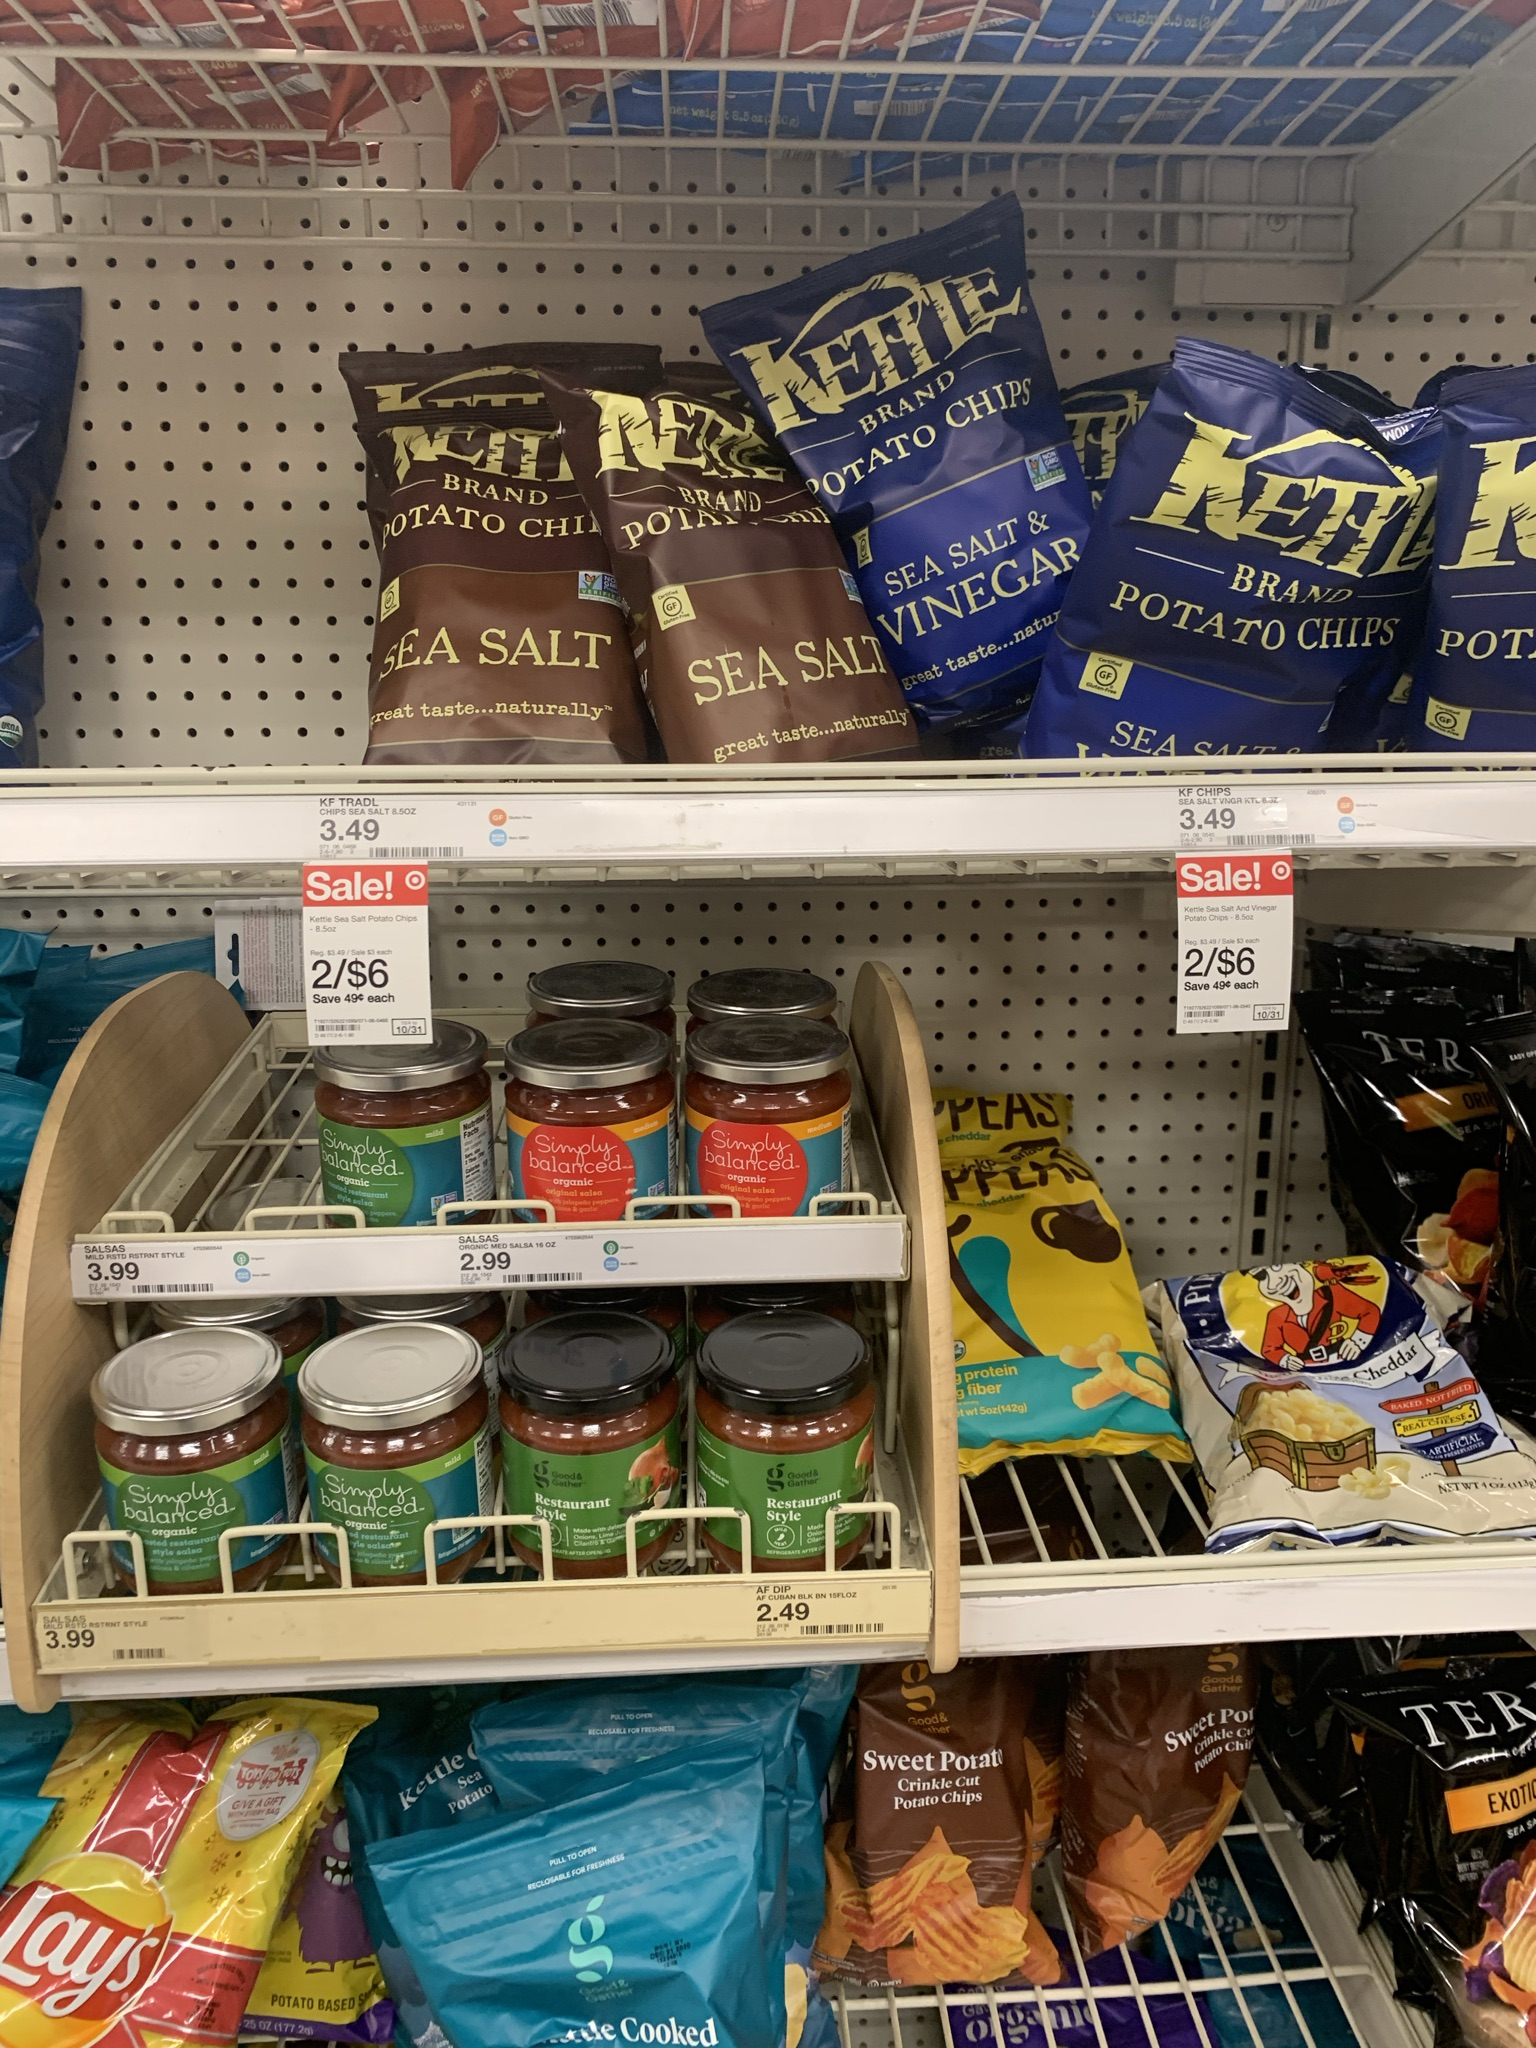kettle: (778, 298, 1142, 671), (1175, 369, 1447, 756), (361, 389, 632, 742), (628, 397, 878, 748)
lays: (394, 389, 611, 779), (61, 1729, 278, 2048)
